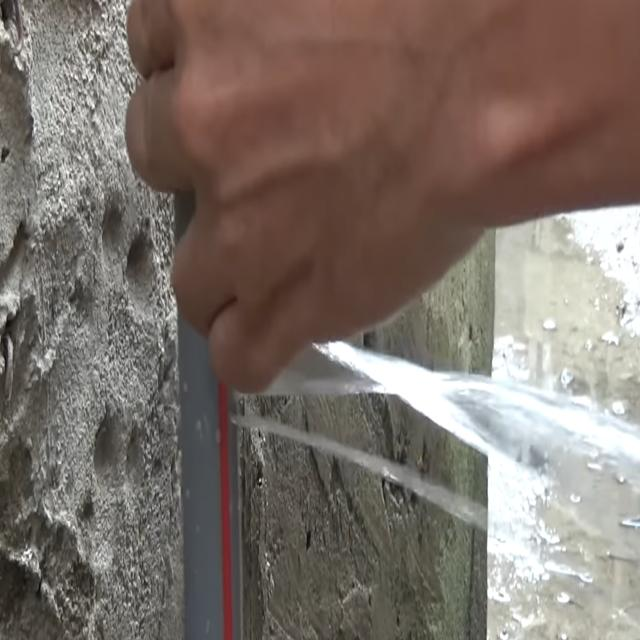leak: (266, 342, 640, 478), (231, 413, 488, 531)
